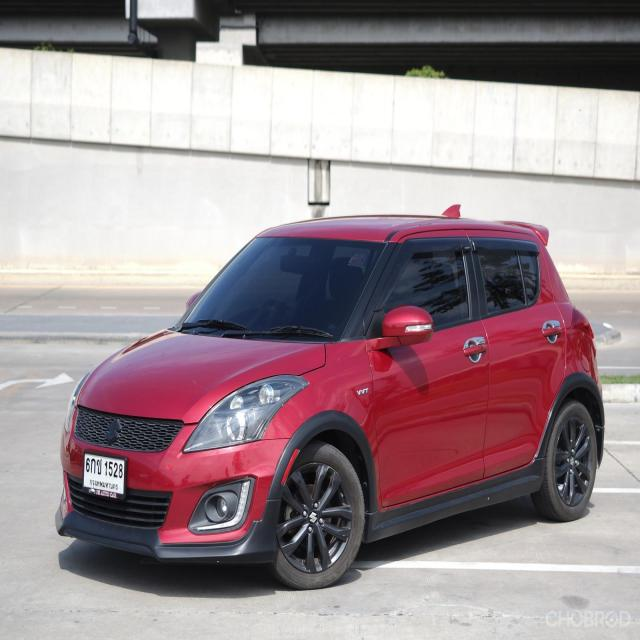license_plate: (82, 451, 128, 501)
